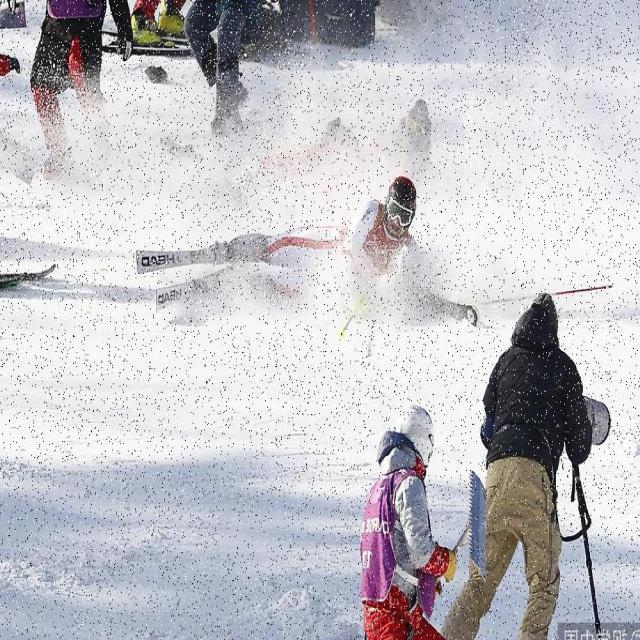fall: (188, 188, 460, 340)
